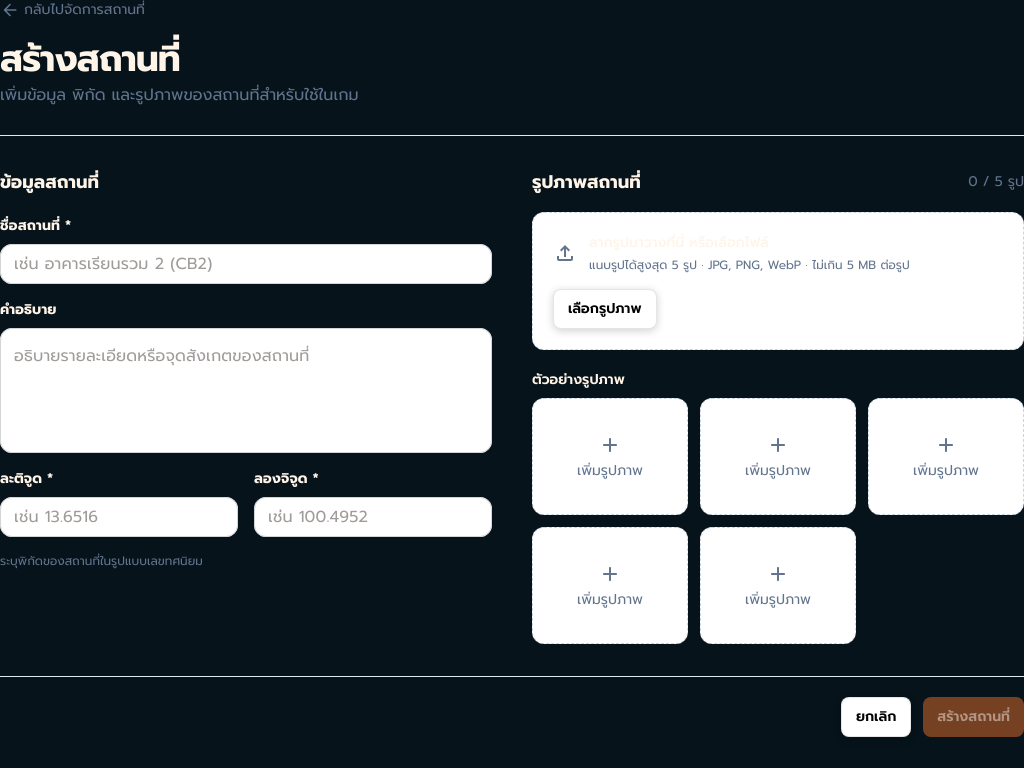
Scenario: location editor › warns on browser Back and keeps the form when the warning is cancelled
Type "ลานกิจกรรม" into the field labelled "ชื่อสถานที่ *" at (246, 264), box [0,245,492,284]
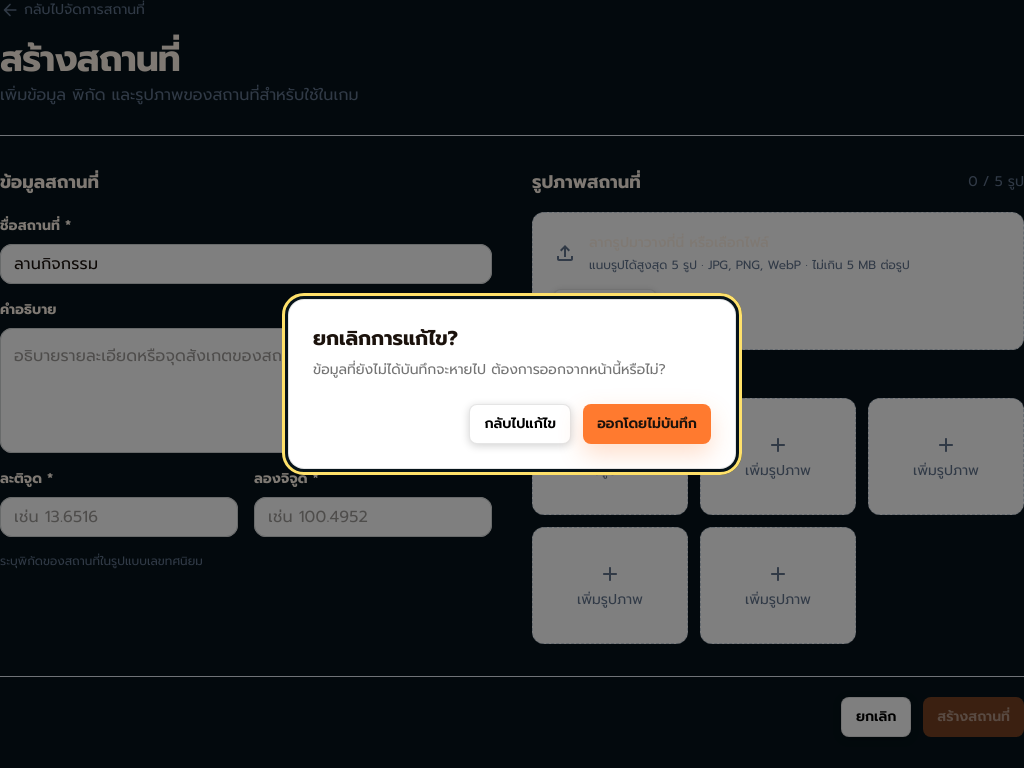
Click the button "กลับไปแก้ไข" at (520, 424), box [469,404,571,444]
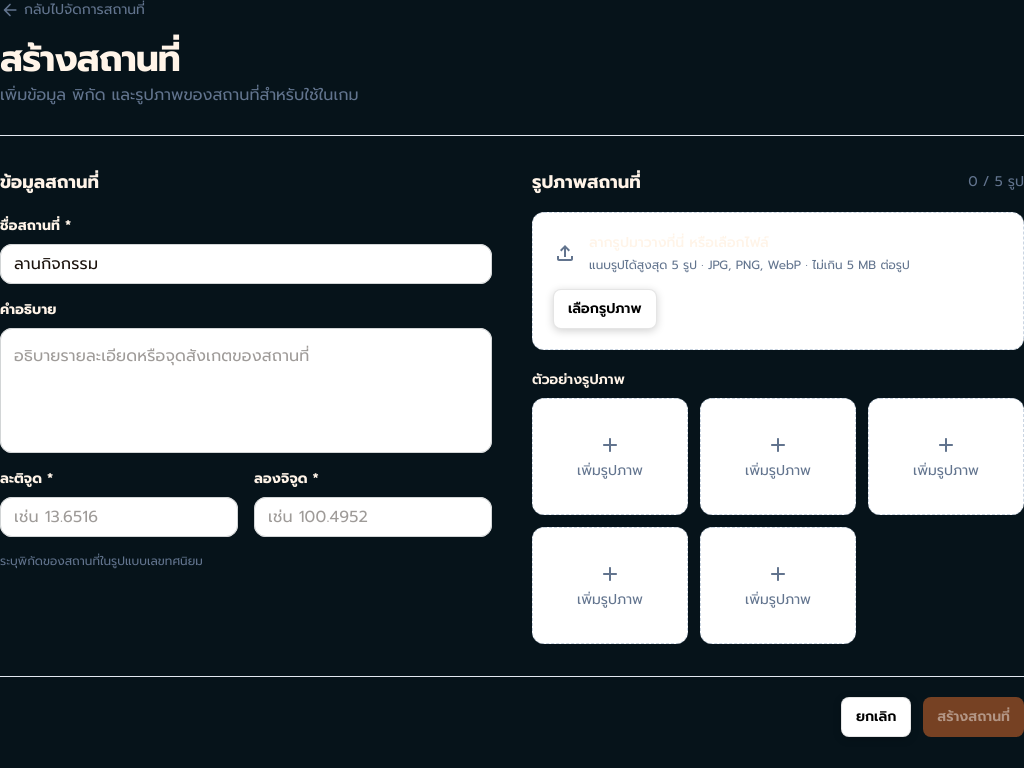
Expected: the dialog is gone
